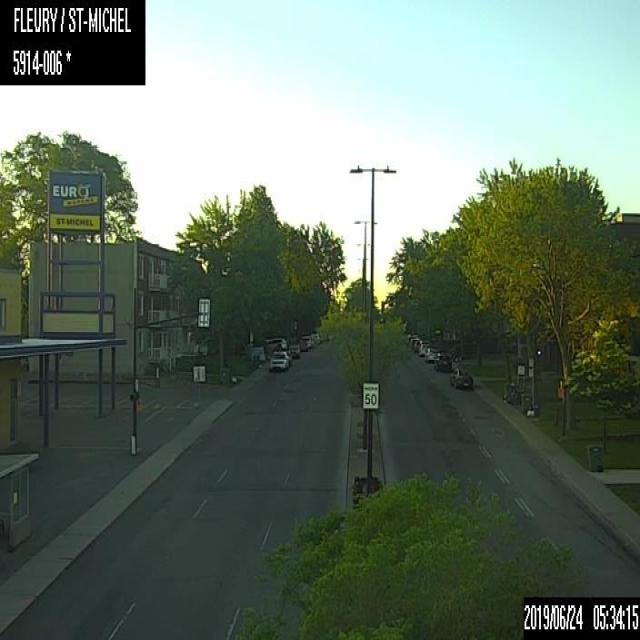vehicle: (448, 366, 473, 389), (268, 349, 289, 372), (434, 352, 452, 372), (264, 338, 287, 350), (424, 346, 438, 362), (417, 341, 430, 355), (288, 343, 300, 358), (302, 335, 312, 348)
